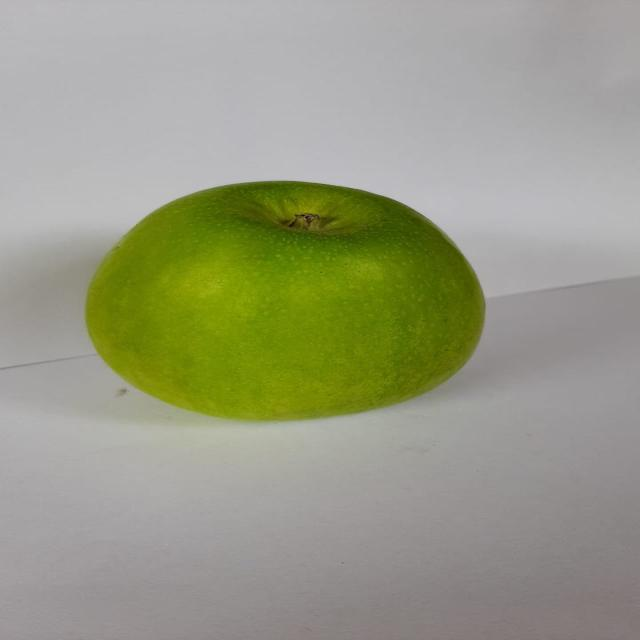50-_ripeness: (65, 163, 491, 433)
